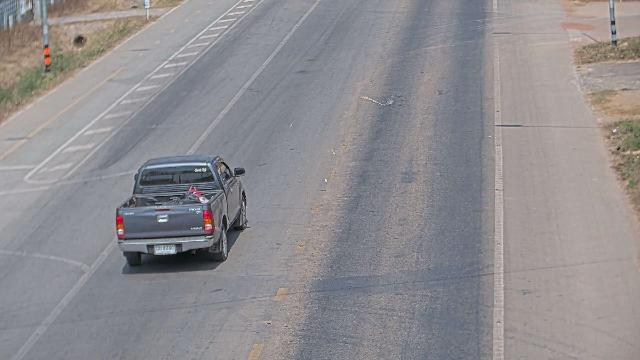pickup-truck: (115, 153, 248, 267)
